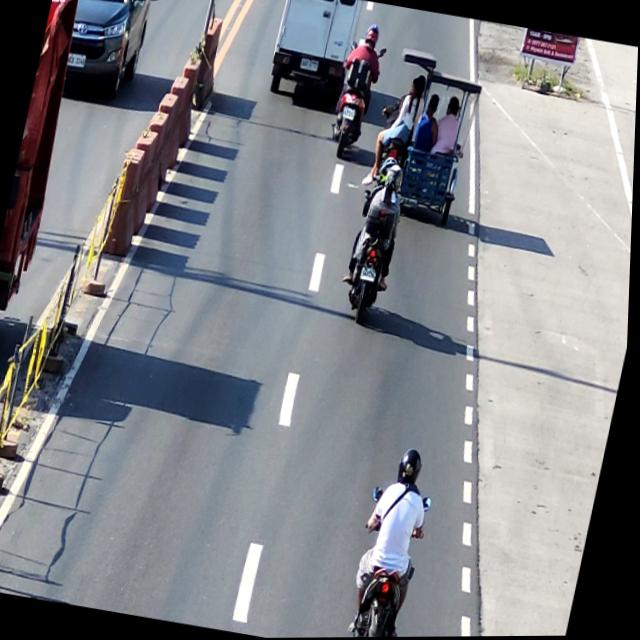Car: (44, 0, 156, 100), (264, 0, 365, 107)
License-Plate: (63, 51, 88, 69), (299, 58, 320, 72), (362, 267, 378, 281), (343, 107, 356, 121)
Motorcycle: (342, 482, 435, 638), (339, 188, 407, 324), (327, 39, 387, 164)
Tricycle: (366, 46, 490, 228)
Truck: (0, 0, 95, 339)
